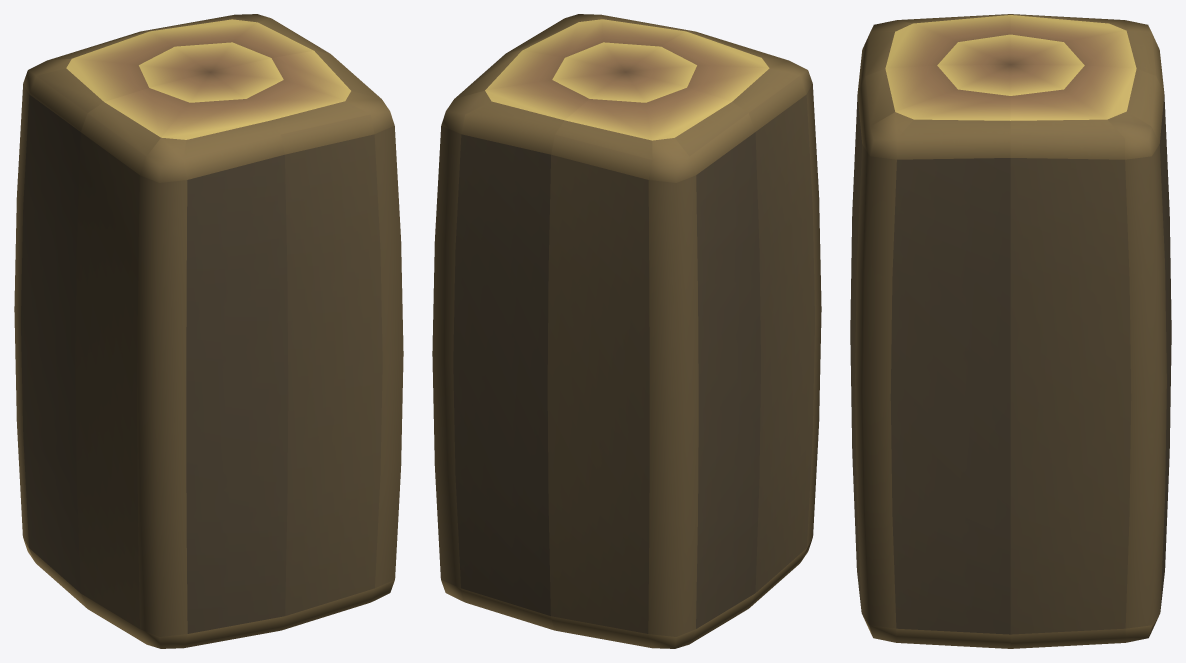
File: branch_straight_LOD_group.fbx
The picture shows the model from 3 angles, left to right: view 1: azimuth 30°, elevation 25°; view 2: azimuth 150°, elevation 25°; view 3: azimuth 270°, elevation 25°; orthographic projection. The views are drawn at different scales.
Parts seen in each view (by area): view 1: branch_straight_LOD0; view 2: branch_straight_LOD0; view 3: branch_straight_LOD0.
Boxes of the visible parts, x1,y1,x2,y2 form: branch_straight_LOD0: (14,14,403,648); branch_straight_LOD0: (432,14,821,648); branch_straight_LOD0: (850,14,1171,648).
Size of what is drawn, in the model's own units: 58.26 by 108 by 58.58.
1 material, 1 textured.
